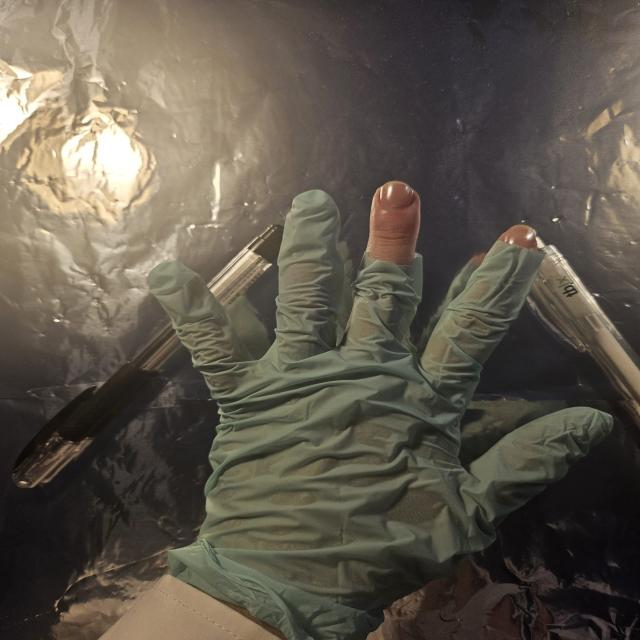gloves_damaged: (144, 180, 616, 640)
